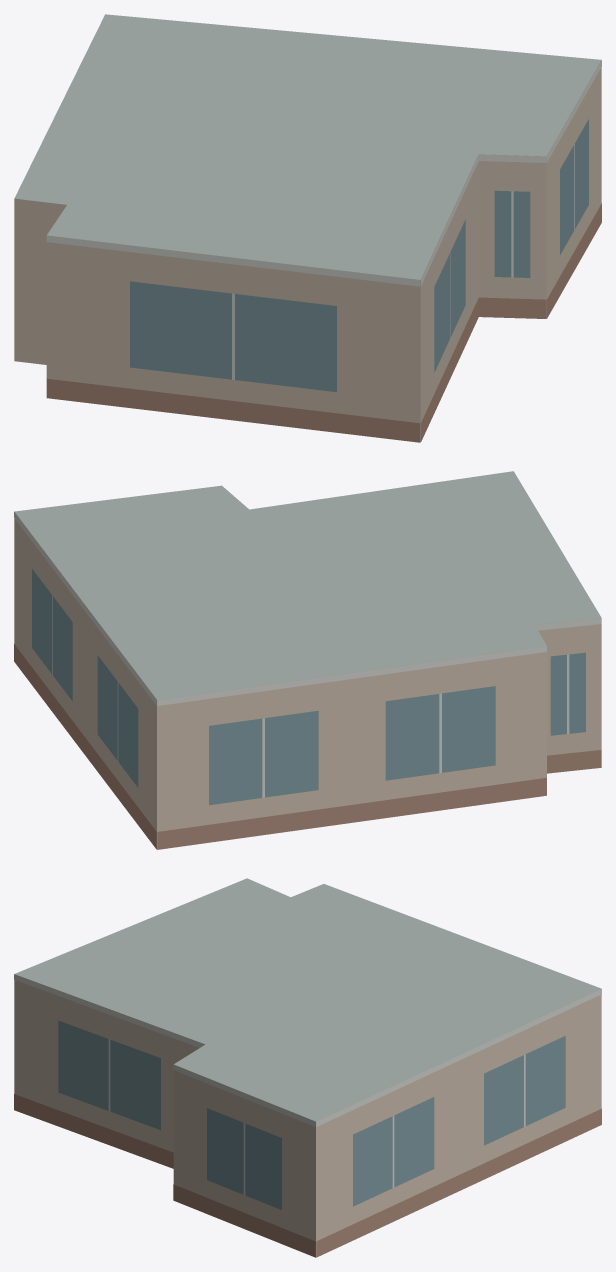
File: survey-upis-32987860.glb
The picture shows the model from 3 angles, top to bottom: view 1: azimuth 30°, elevation 25°; view 2: azimuth 150°, elevation 25°; view 3: azimuth 270°, elevation 25°; orthographic projection. The views are drawn at different scales.
Parts seen in each view (by area): view 1: survey-upis-32987860.tmp; view 2: survey-upis-32987860.tmp; view 3: survey-upis-32987860.tmp.
Boxes of the visible parts, left/top/right/bottom form: survey-upis-32987860.tmp: left=14, top=14, right=601, bottom=442; survey-upis-32987860.tmp: left=14, top=471, right=601, bottom=849; survey-upis-32987860.tmp: left=14, top=878, right=601, bottom=1257.
Size of the model in its own units: 11.71 by 3.05 by 11.95.
